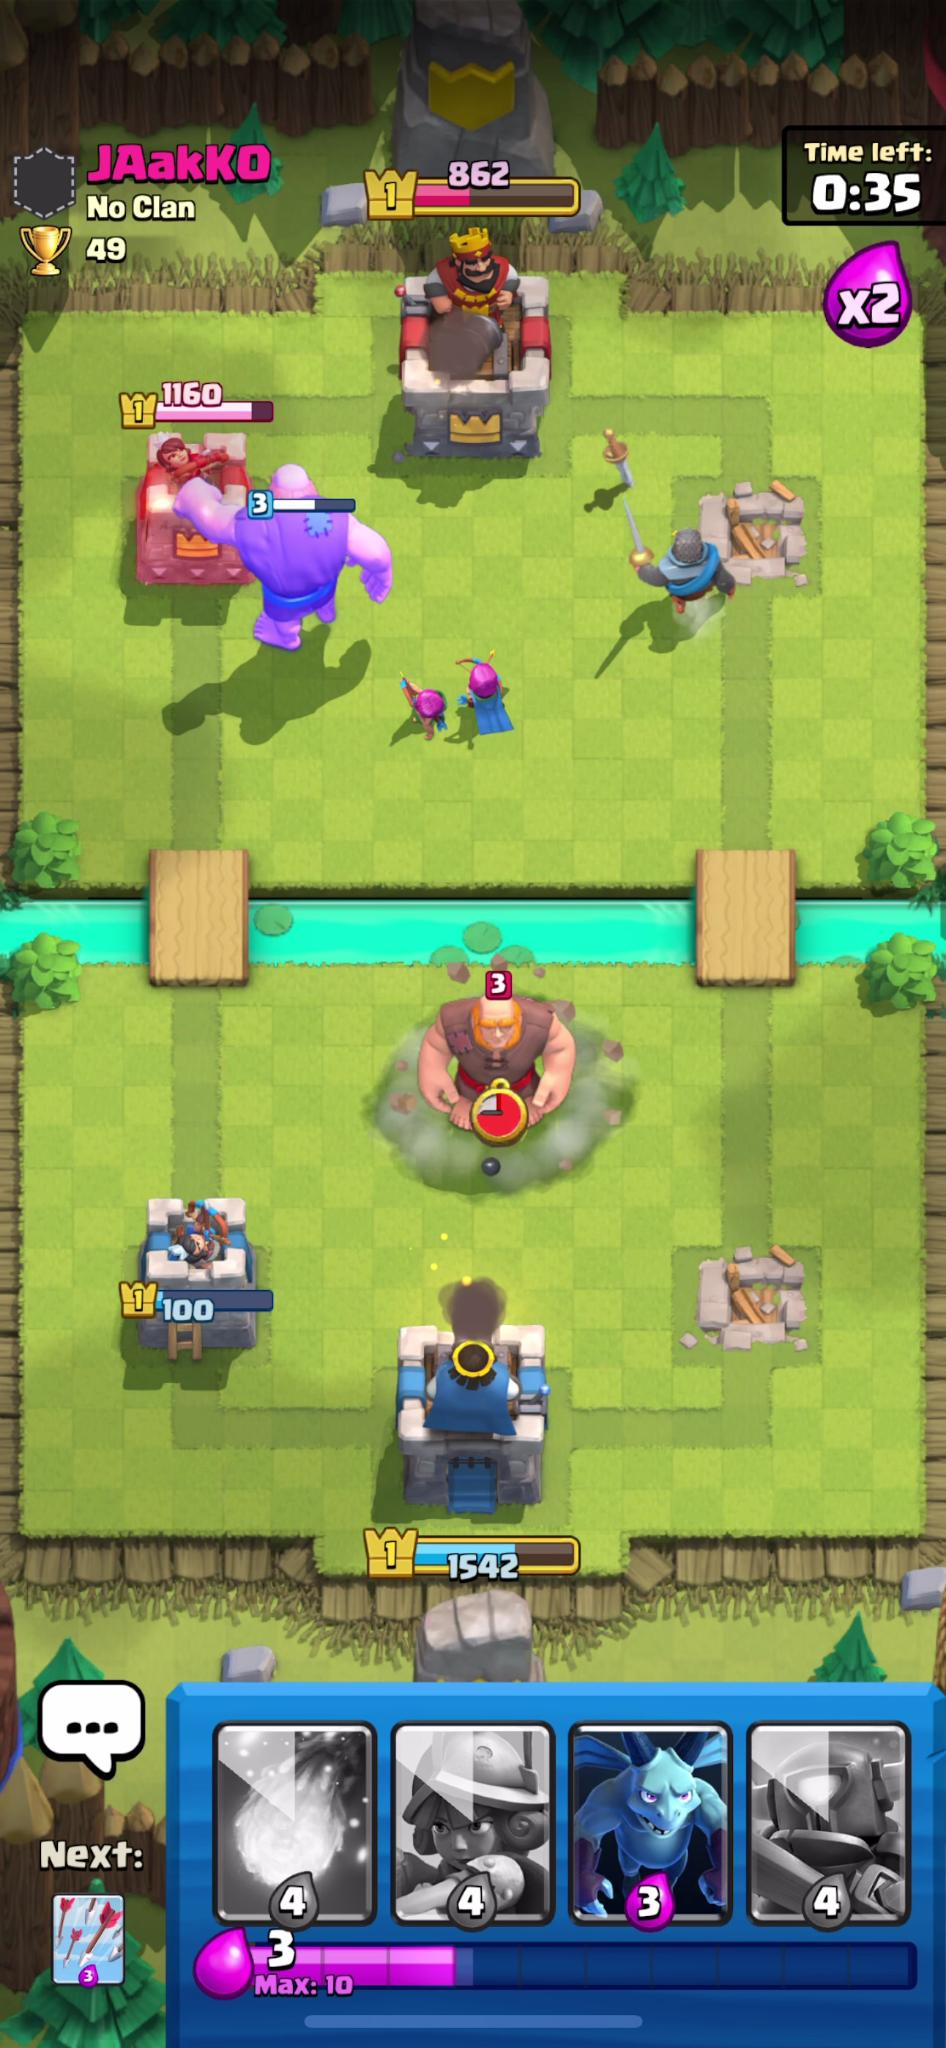archere: (453, 657, 510, 737), (401, 677, 449, 742)
chevalier: (626, 519, 737, 631)
geant: (220, 498, 389, 661), (421, 999, 583, 1148)
